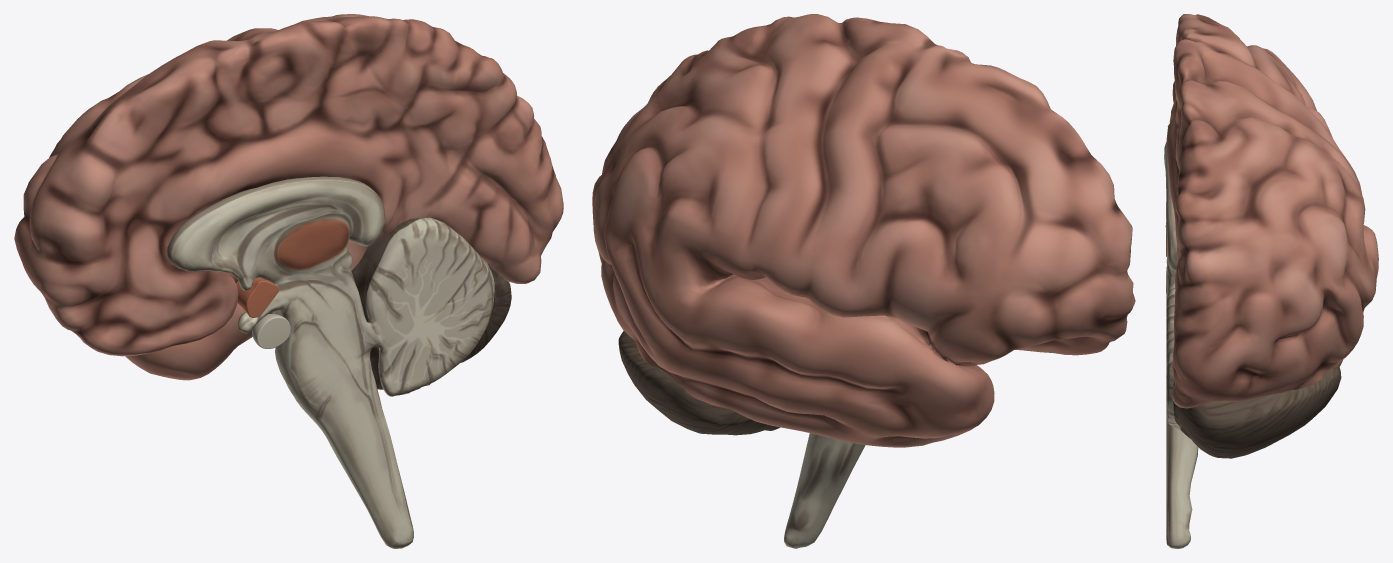
File: brain.glb
The picture shows the model from 3 angles, left to right: view 1: azimuth 30°, elevation 25°; view 2: azimuth 150°, elevation 25°; view 3: azimuth 270°, elevation 25°; orthographic projection. The views are drawn at different scales.
Parts seen in each view (by area): view 1: node_id30_1; view 2: node_id30_1; view 3: node_id30_1.
Part boxes in pixels (<box>): node_id30_1: <box>14,14,563,548</box>; node_id30_1: <box>592,14,1135,548</box>; node_id30_1: <box>1164,14,1378,548</box>.
Bounding box in the file's own units: 0.512 × 0.5101 × 0.2167.
Materials: 1 (1 with a texture image).
